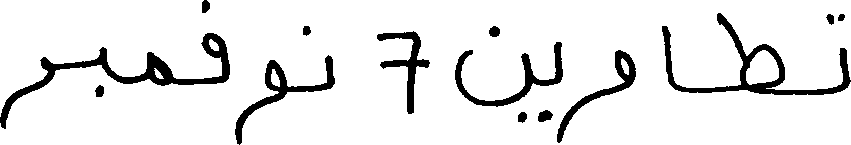7: (370, 29, 427, 114)
ا: (658, 24, 676, 91)
ب: (96, 44, 109, 96)
ت: (835, 11, 848, 92)
ر: (0, 55, 56, 129)
ط: (715, 11, 785, 96)
ف: (200, 0, 229, 85)
م: (146, 50, 173, 86)
ن: (454, 24, 533, 123), (303, 24, 334, 90)
و: (562, 48, 636, 136), (236, 58, 289, 143)
ي: (519, 40, 564, 127)
